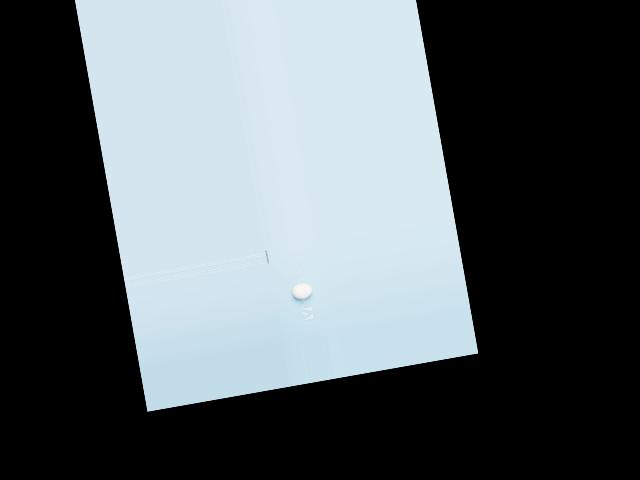egg: (291, 281, 312, 300)
